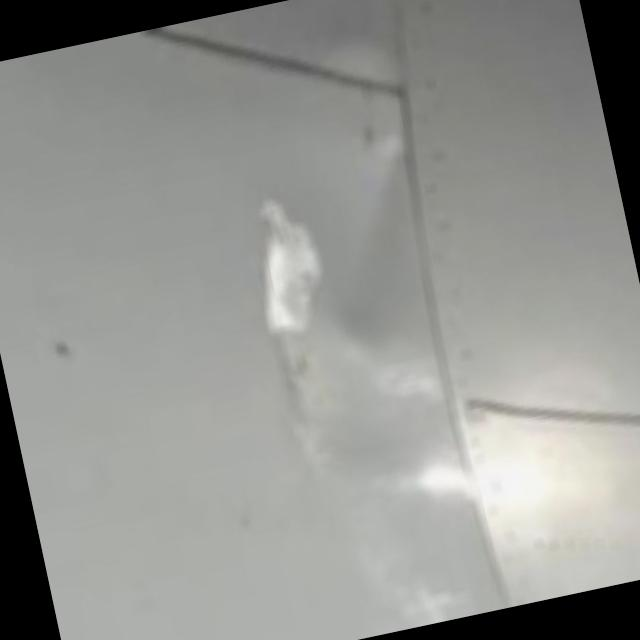dent: (298, 126, 452, 387), (220, 176, 358, 461), (363, 454, 505, 610)
